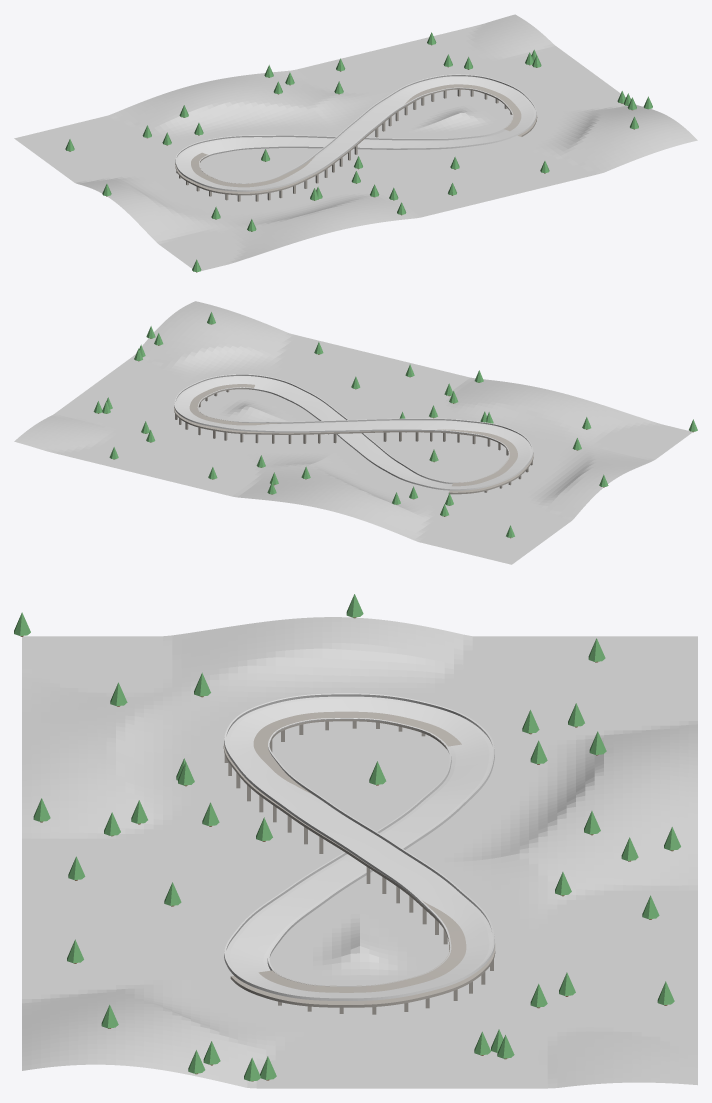
3 views of the same model, one above another, from view 1: azimuth 30°, elevation 25°; view 2: azimuth 150°, elevation 25°; view 3: azimuth 270°, elevation 25° (orthographic). The views are drawn at different scales.
Parts seen in each view (by area): view 1: Terrain, Figure 8, Bridge Deck; view 2: Terrain, Figure 8, Bridge Deck; view 3: Terrain, Figure 8, Bridge Deck.
Boxes of the visible parts, bbox=[...] form: Terrain: bbox=[14, 14, 697, 270]; Figure 8: bbox=[175, 74, 536, 191]; Bridge Deck: bbox=[175, 84, 537, 195]; Terrain: bbox=[14, 301, 692, 564]; Figure 8: bbox=[174, 374, 533, 490]; Bridge Deck: bbox=[174, 384, 533, 494]; Terrain: bbox=[22, 617, 697, 1088]; Figure 8: bbox=[224, 693, 494, 1000]; Bridge Deck: bbox=[223, 711, 495, 1007].
Bounding box in the file's own units: 384 × 19.06 × 243.
